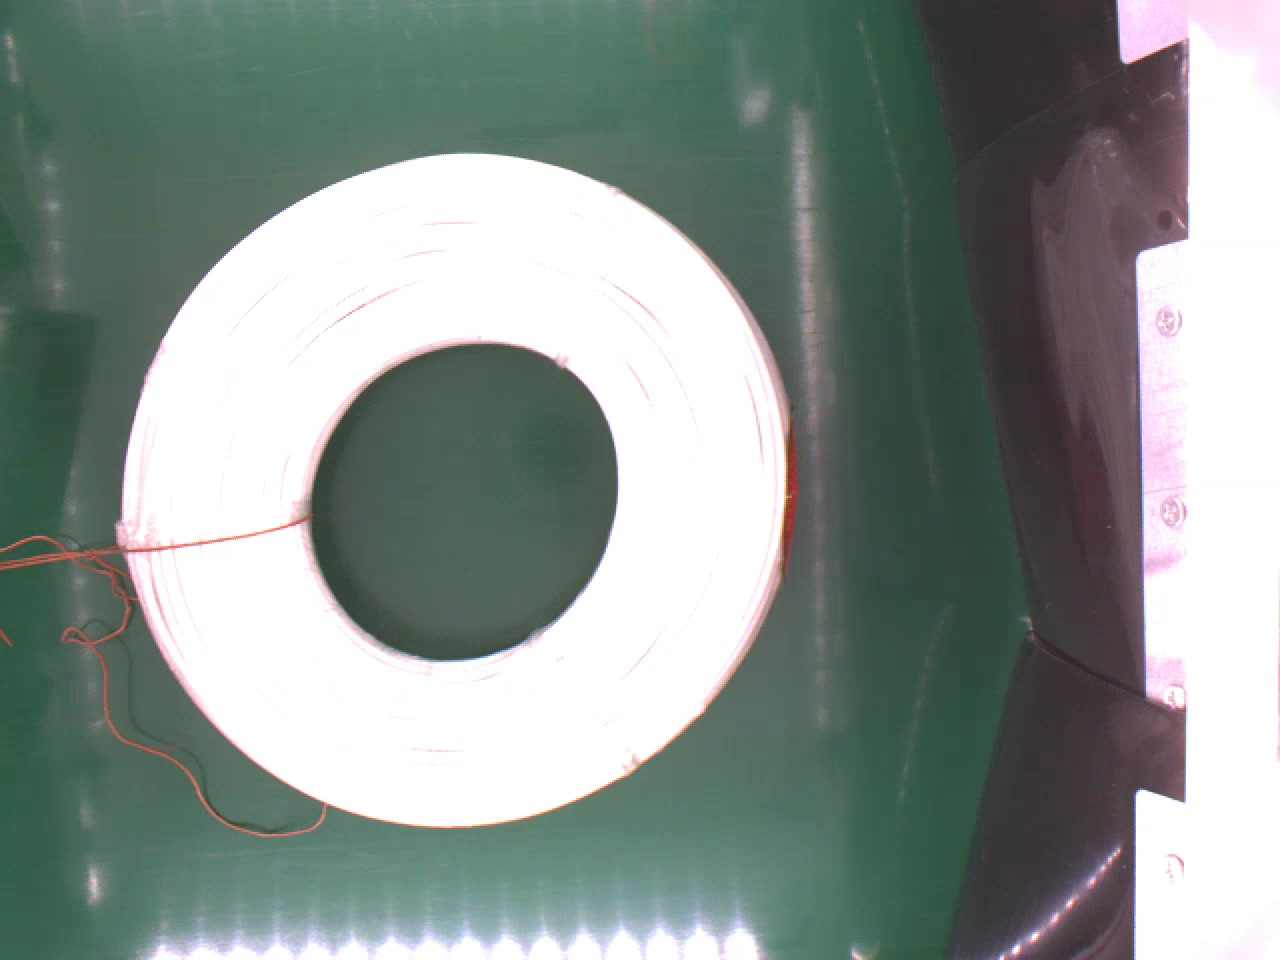white: (117, 147, 801, 829)
